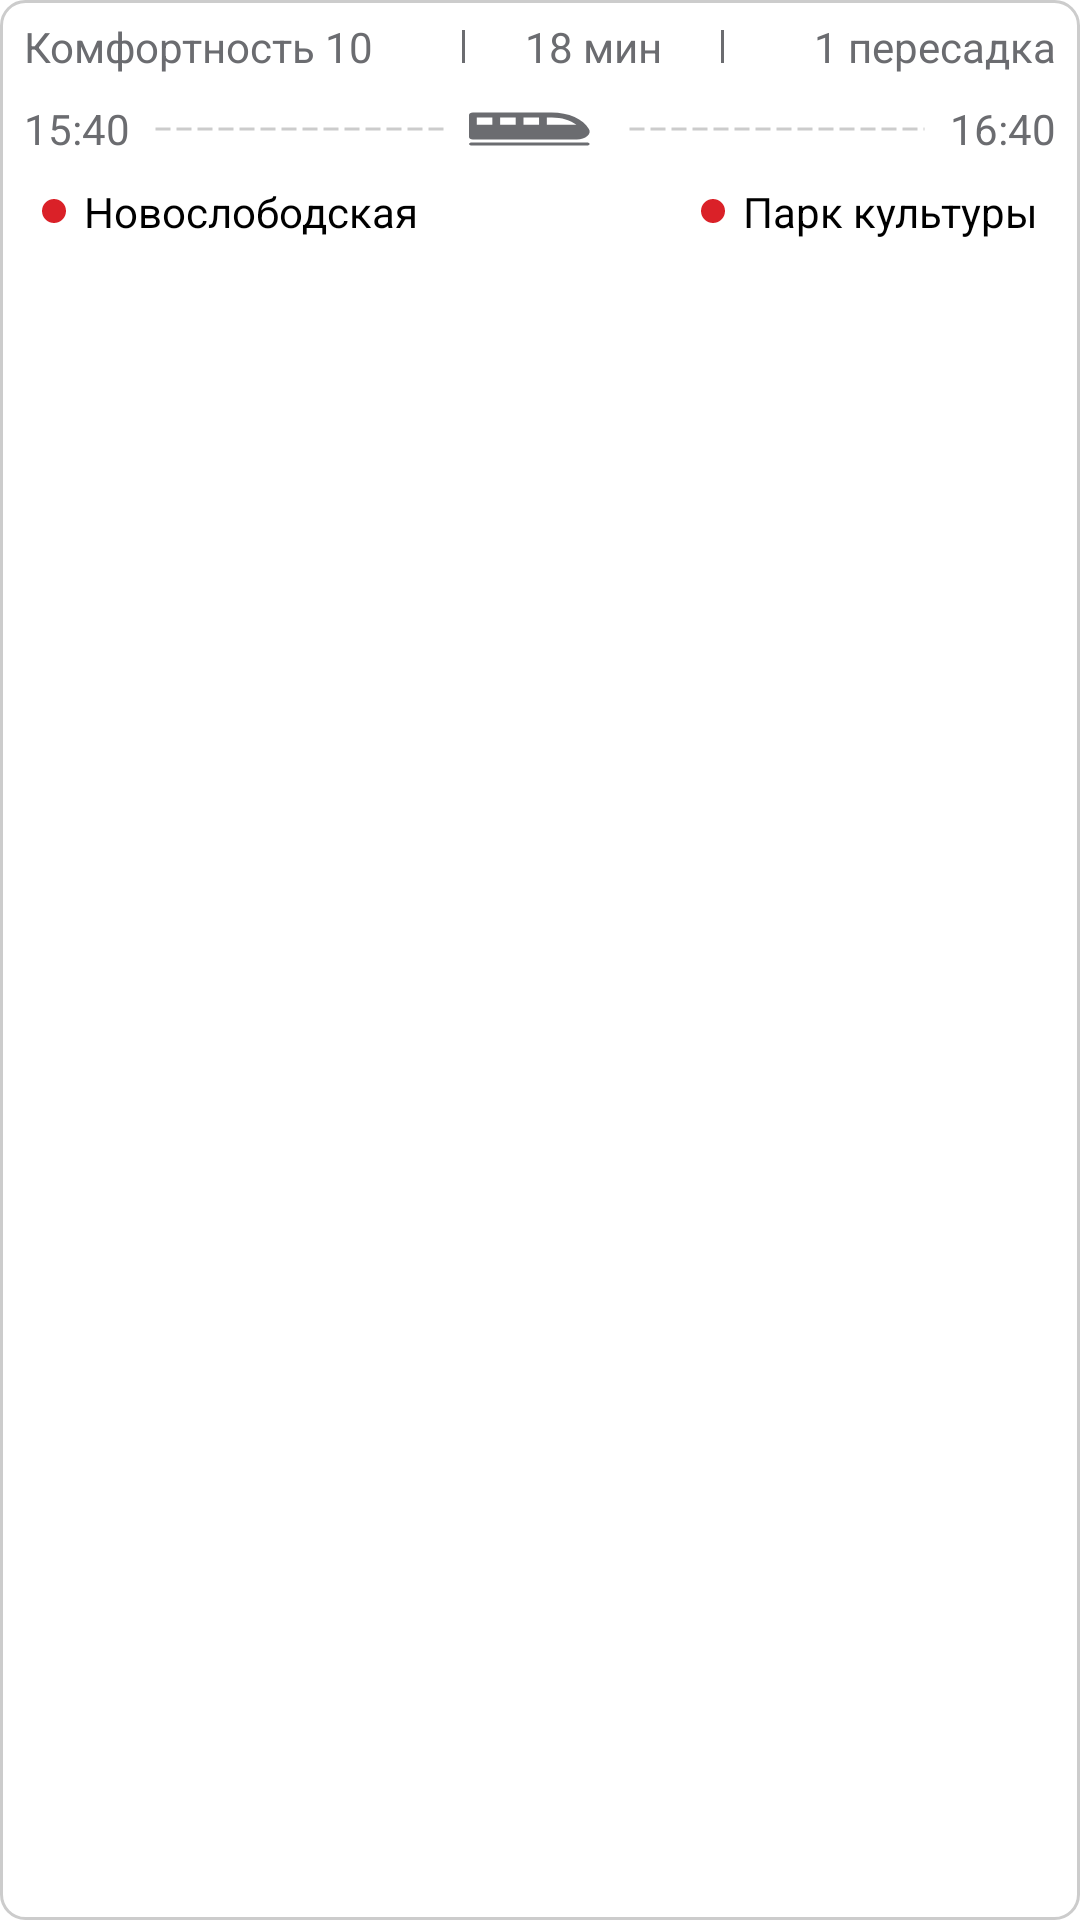

Named icons in this screenshot (1080×1920) and their bounding boxes, (x1,y1,x2,y2):
train: (469,112,590,146)
